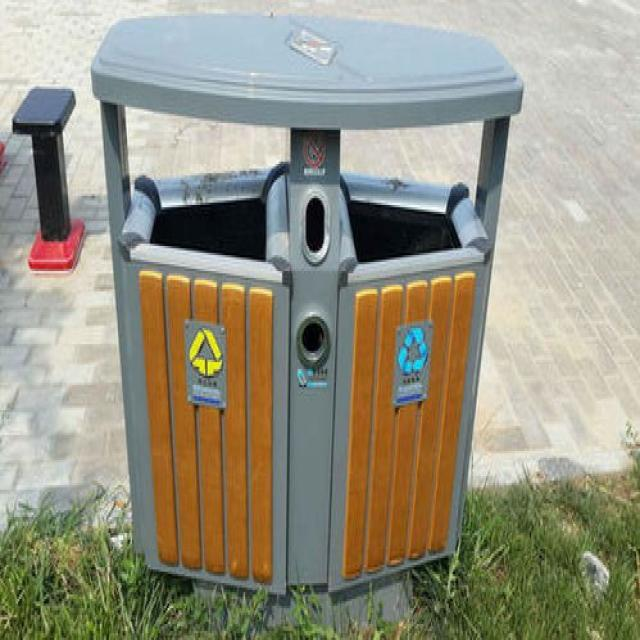garbage_bin: (90, 9, 523, 626)
